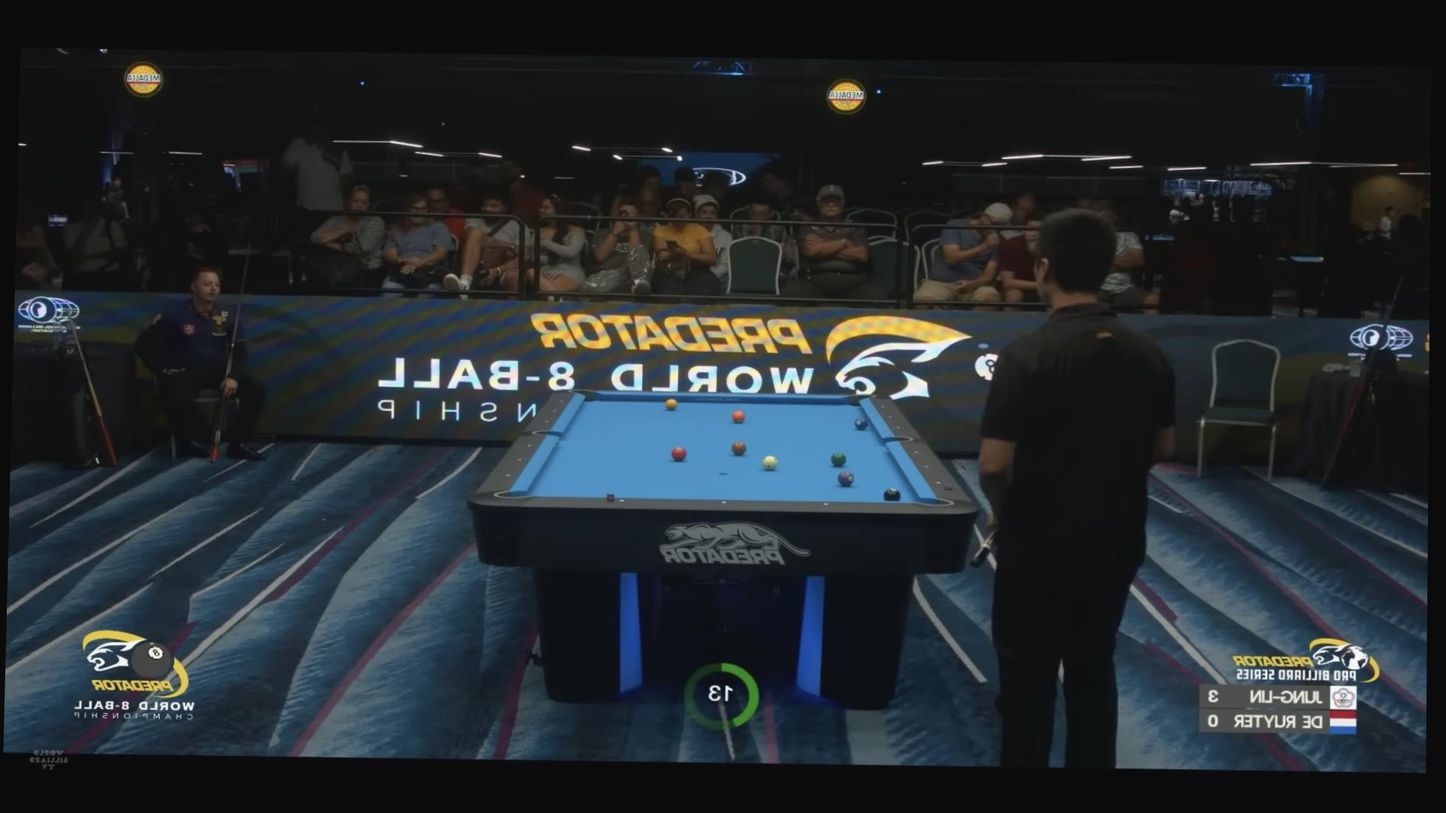Black: (823, 502, 829, 507), (721, 500, 726, 505), (506, 473, 511, 478), (517, 457, 522, 462), (527, 443, 532, 448), (619, 498, 625, 502), (880, 405, 885, 409), (936, 481, 940, 485), (925, 465, 929, 469), (914, 451, 919, 454), (896, 426, 901, 429), (545, 420, 549, 423), (560, 400, 564, 403), (888, 415, 892, 418), (553, 409, 556, 412), (788, 392, 791, 395), (720, 391, 723, 394)
Cue: (837, 471, 855, 486), (831, 452, 847, 466), (671, 447, 687, 461), (732, 441, 747, 455), (665, 399, 678, 411), (732, 411, 745, 423), (855, 417, 868, 429)
Solid: (884, 488, 901, 502)
Stripe: (762, 455, 778, 470)
